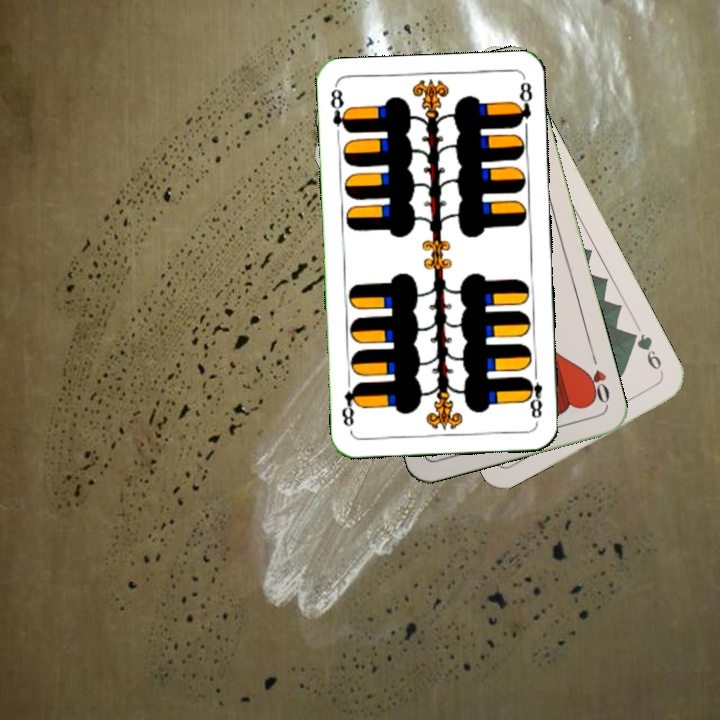E8: (326, 83, 352, 136), (521, 365, 545, 421)
G9: (625, 328, 667, 379)
HO: (581, 350, 612, 408)
